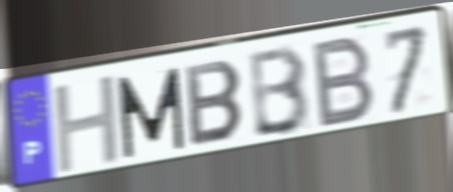7: (384, 21, 429, 116)
B: (312, 32, 378, 132), (248, 42, 314, 141), (183, 57, 247, 149)
H: (50, 70, 125, 178)
M: (114, 64, 188, 162)
